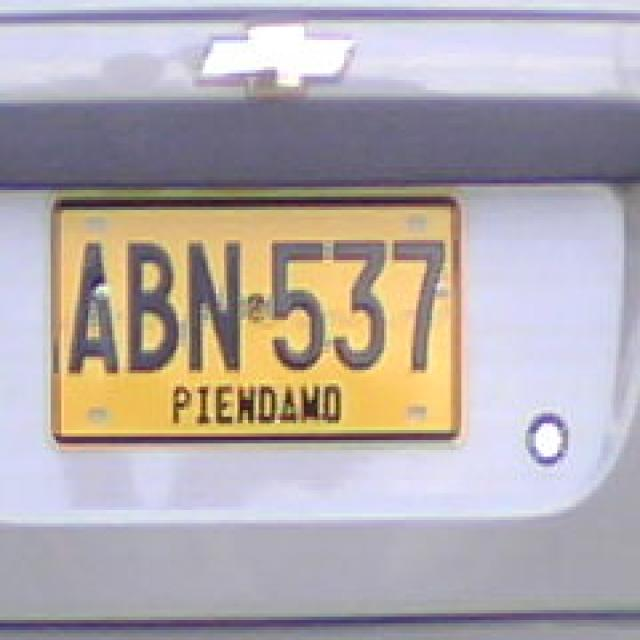placa_carro: (41, 169, 471, 464)
